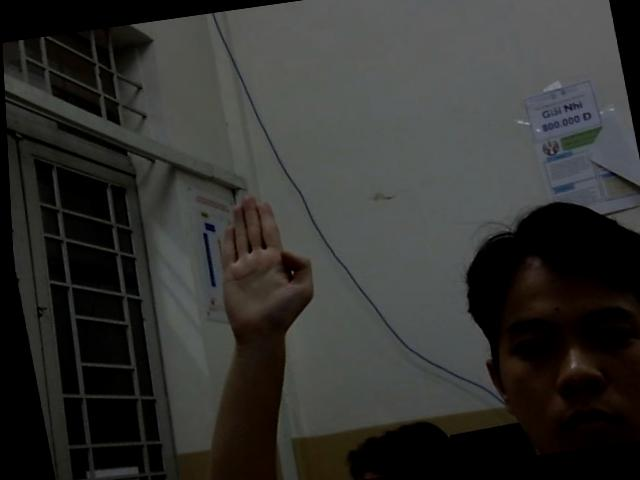B: (191, 183, 320, 336)
